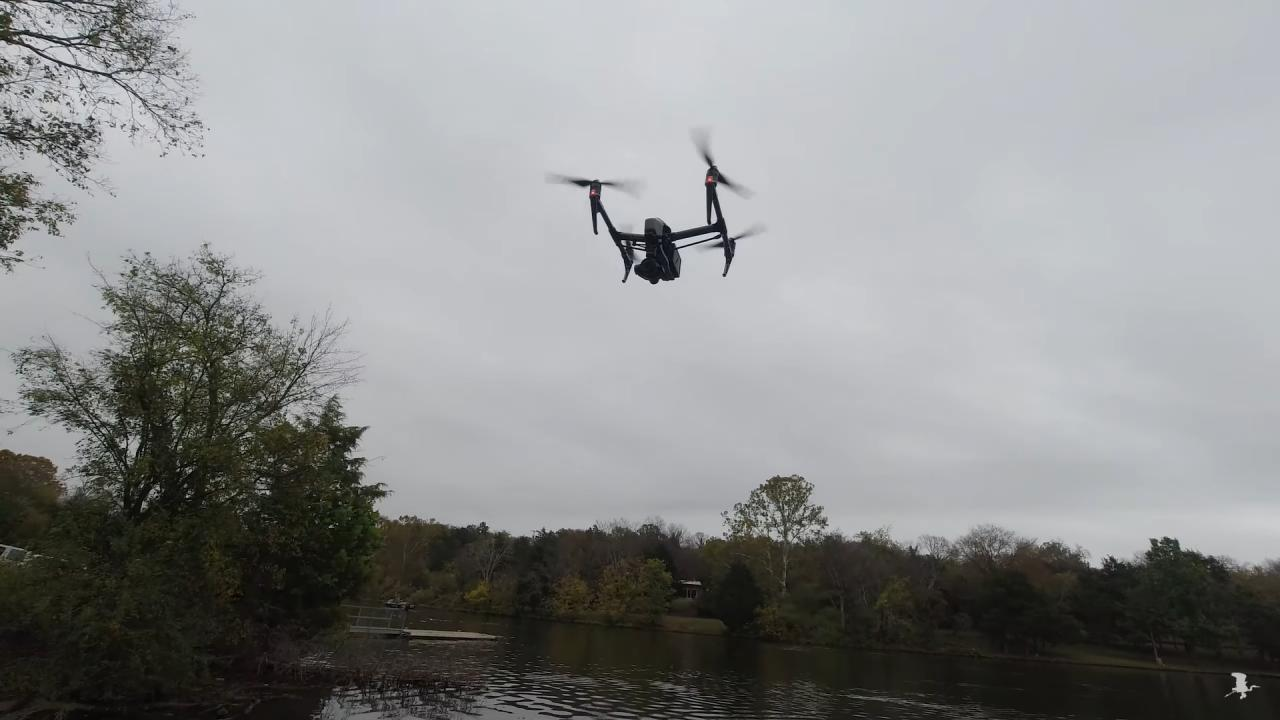Drone: (523, 114, 785, 304)
